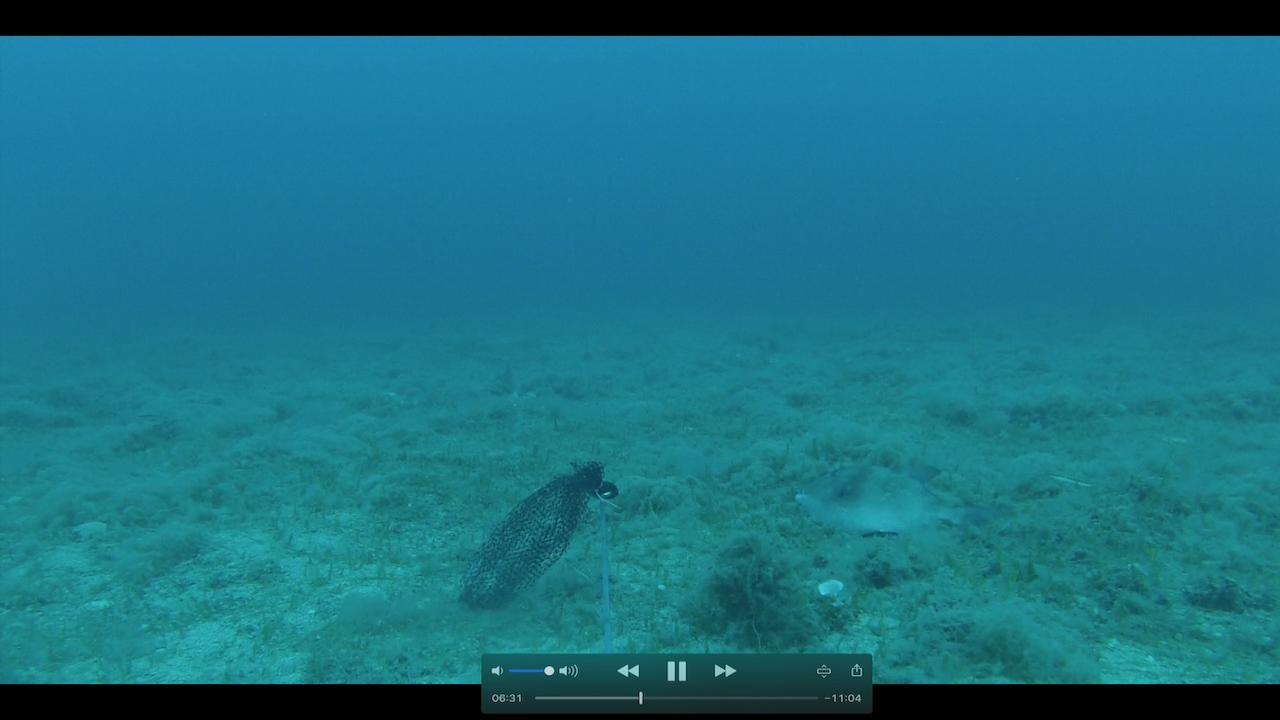balistes: (784, 454, 1014, 551)
